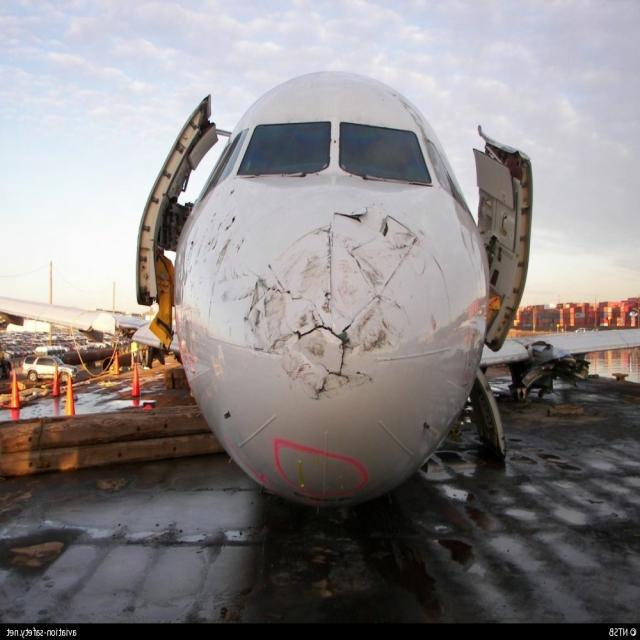crack: (244, 208, 427, 409)
